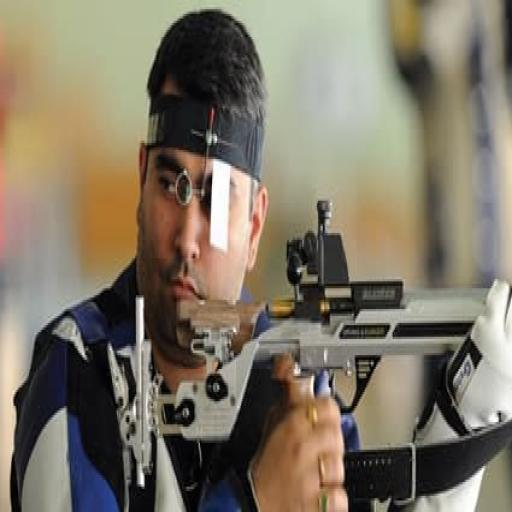shooting: (45, 53, 507, 512)
